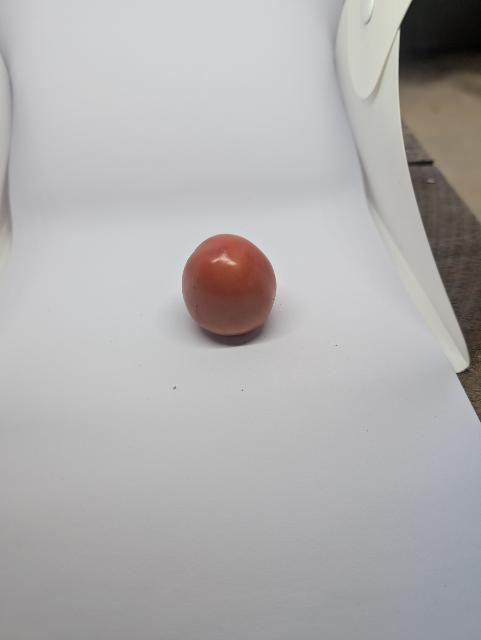red: (168, 225, 314, 377)
